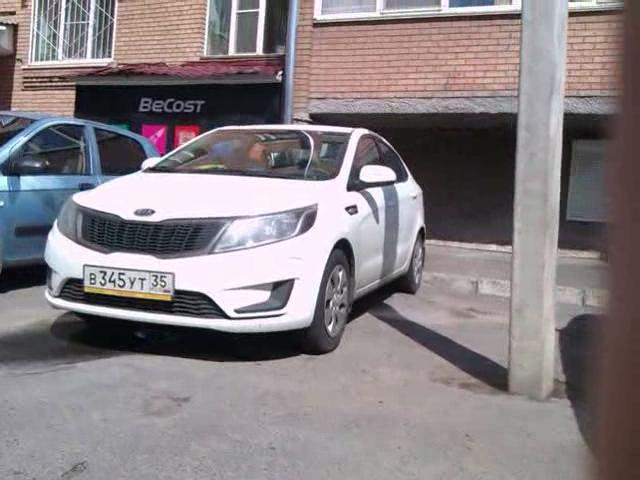car license plate: (83, 261, 176, 298)
